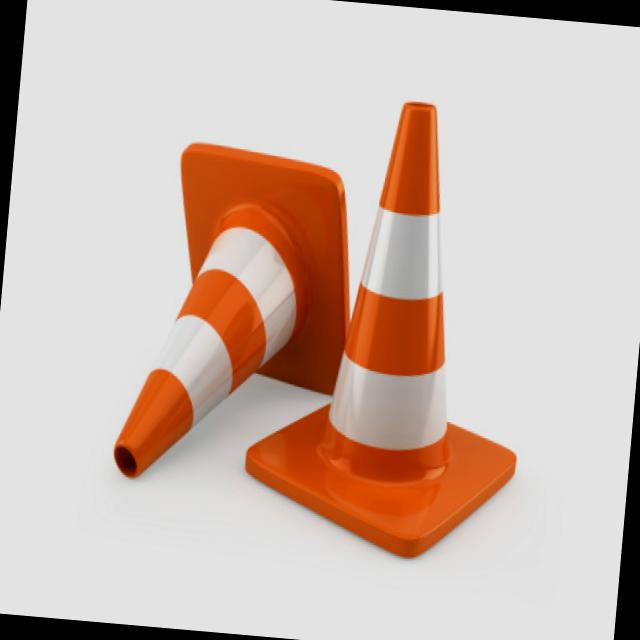cone: (236, 62, 569, 560)
